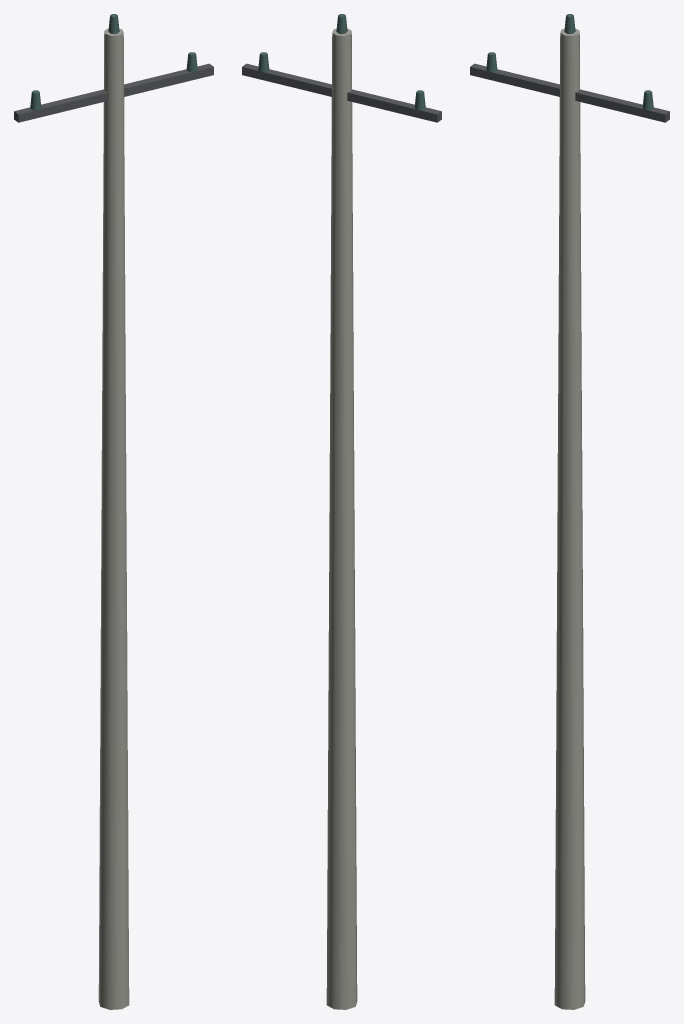
File: power_pole.glb
3 renders of one model, left to right at view 1: azimuth 30°, elevation 25°; view 2: azimuth 150°, elevation 25°; view 3: azimuth 330°, elevation 25°, orthographic.
Visible parts, largest first — view 1: Pole; view 2: Pole; view 3: Pole.
Boxes of the visible parts, x1=… form: Pole: x1=14, y1=14, x2=213, y2=1009; Pole: x1=242, y1=14, x2=441, y2=1009; Pole: x1=470, y1=14, x2=669, y2=1009.
Size of the model in its own units: 2 by 9.66 by 0.28.
